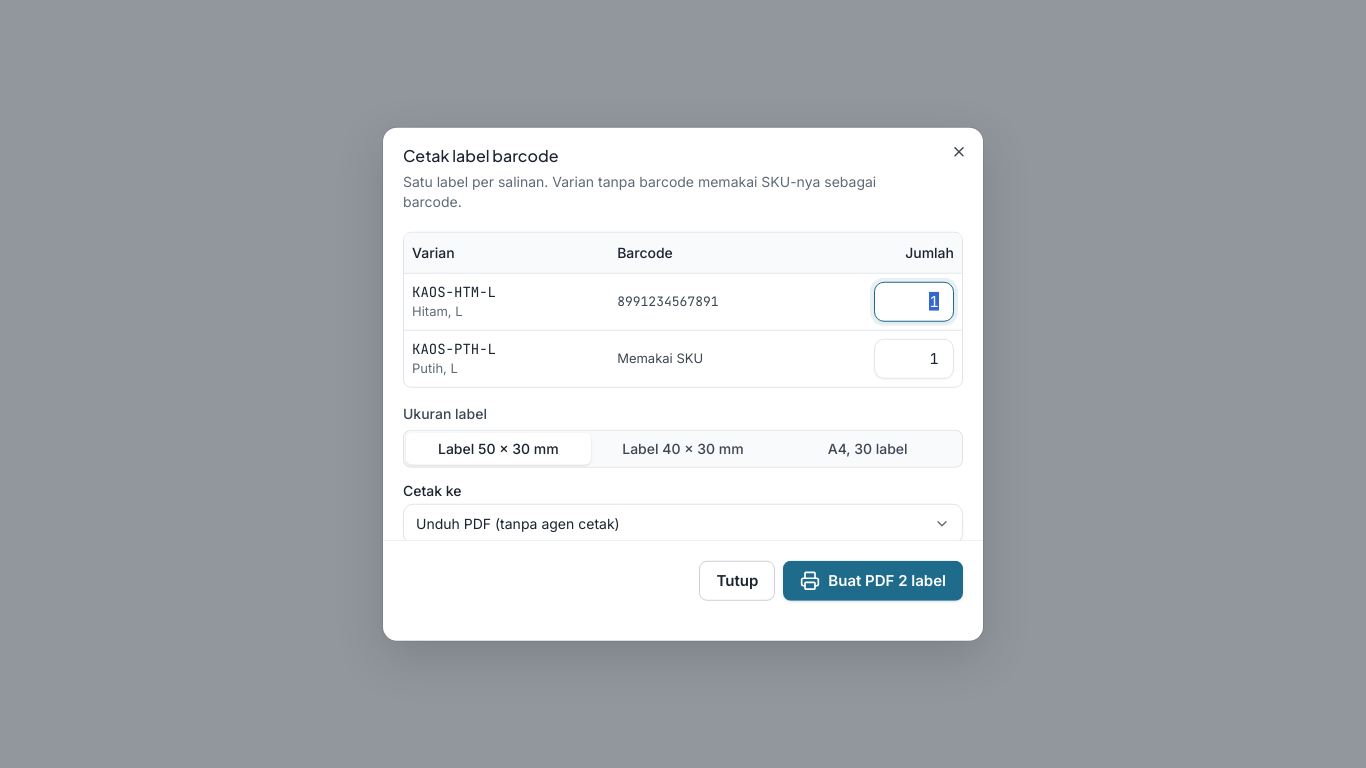
Test: Cetak label barcode › shows the api's refusal
Click the button "Buat PDF 2 label". click: [873, 580]
box: [783,560,963,600]
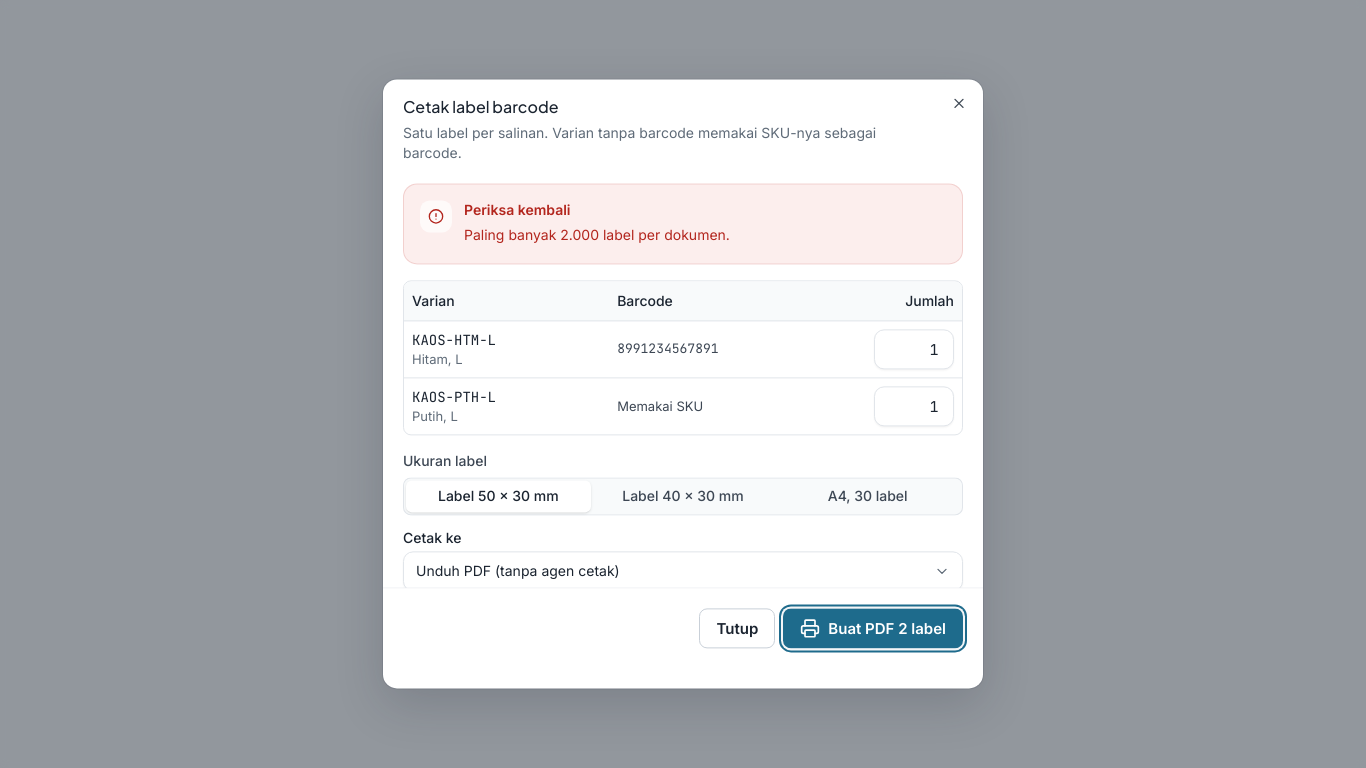
Expected: the message shows "Paling banyak 2.000 label per dokumen.", [464,226,730,243]
